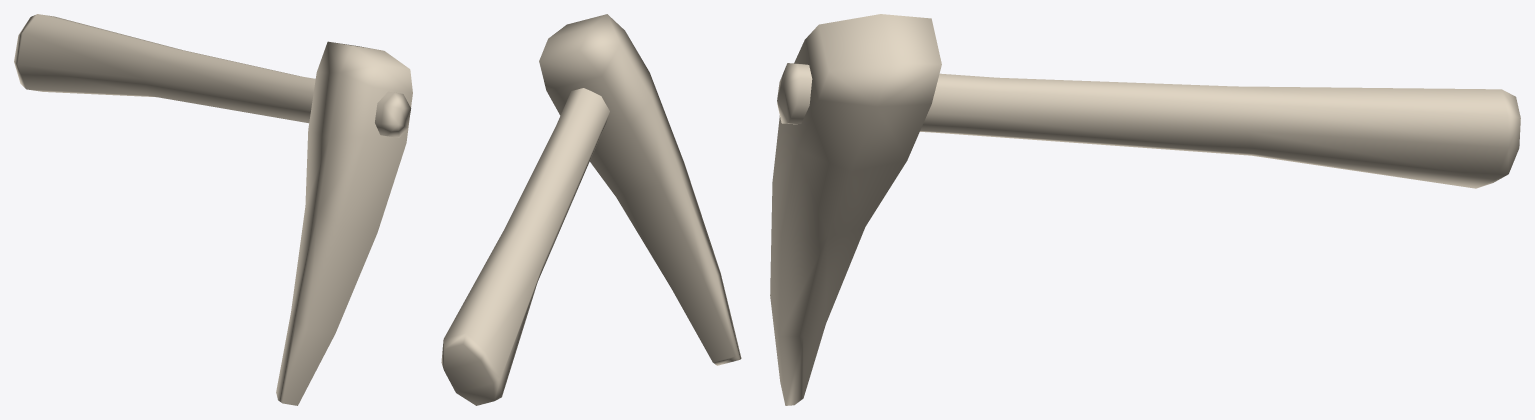
File: pickaxe-base.glb
3 views of the same model, side by side, from view 1: azimuth 30°, elevation 25°; view 2: azimuth 150°, elevation 25°; view 3: azimuth 270°, elevation 25° (orthographic). The views are drawn at different scales.
Bounding box in the file's own units: 0.2166 × 0.3893 × 0.5837.
